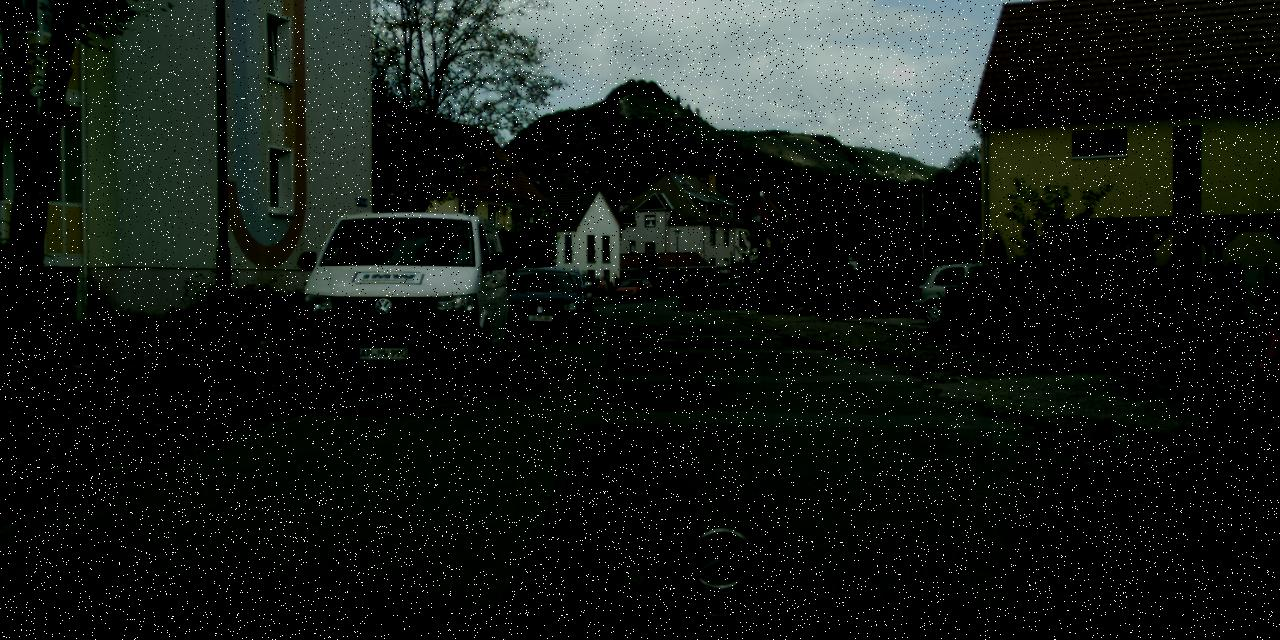ped: (597, 276, 607, 300)
